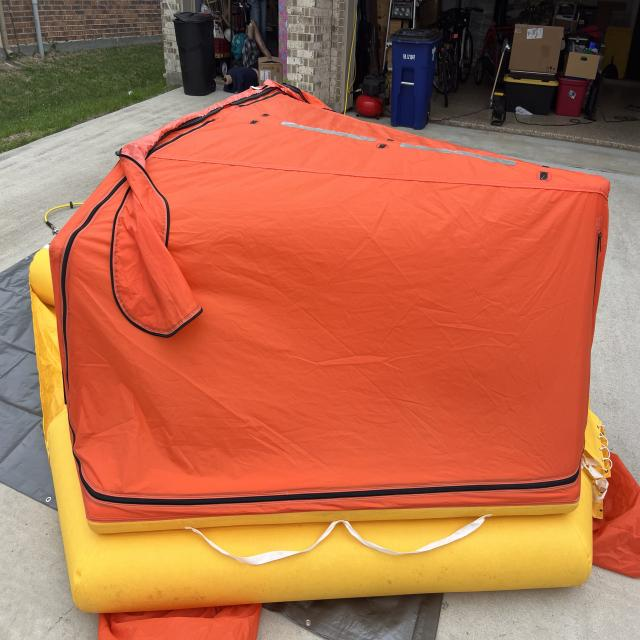Multi-person_life_raft: (27, 79, 640, 639)
